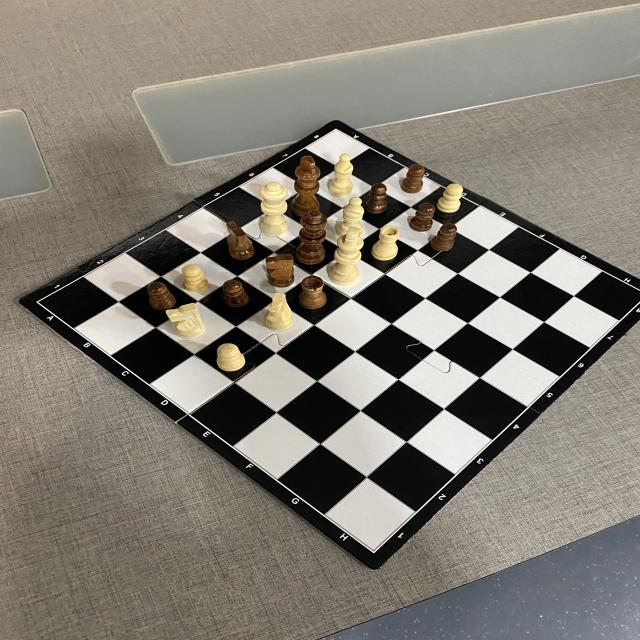Black-King: (294, 155, 320, 217)
Black-Knight: (226, 220, 255, 260), (268, 253, 294, 286)
Black-Pawn: (430, 223, 458, 252), (148, 282, 176, 310), (409, 202, 435, 232), (402, 164, 425, 194), (367, 182, 387, 215), (225, 279, 246, 308)
Black-Queen: (299, 210, 328, 264)
Black-Rook: (300, 276, 326, 308)
White-Bishop: (336, 198, 365, 236), (330, 153, 353, 197)
White-King: (328, 228, 364, 286)
White-Knight: (166, 303, 206, 339), (266, 292, 292, 331)
White-Pawn: (217, 343, 246, 372), (437, 183, 463, 213), (182, 264, 208, 293)
White-Queen: (259, 182, 288, 236)
White-Rook: (371, 226, 399, 262)
